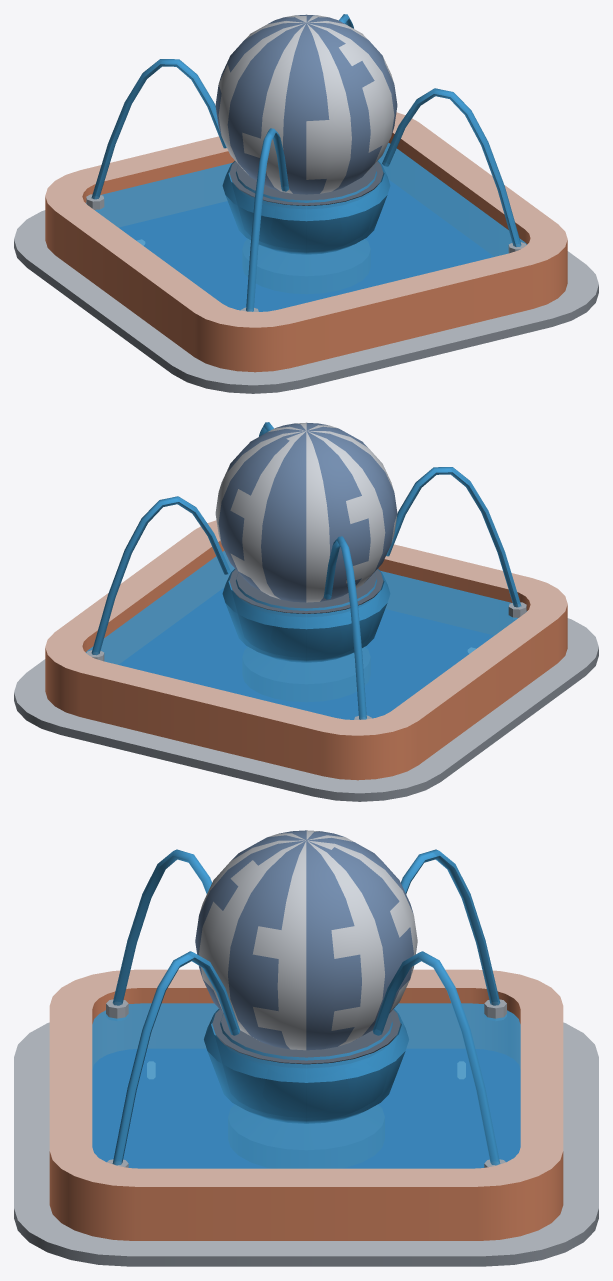
The model's file is chafariz_globo.glb.
3 views of the same model, one above another, from view 1: azimuth 30°, elevation 25°; view 2: azimuth 150°, elevation 25°; view 3: azimuth 270°, elevation 25° (orthographic). The views are drawn at different scales.
Visible parts, largest first — view 1: chafariz_globo, globo; view 2: chafariz_globo, globo; view 3: chafariz_globo, globo.
Boxes of the visible parts, bbox=[...] form: chafariz_globo: bbox=[14, 14, 598, 393]; globo: bbox=[215, 14, 397, 194]; chafariz_globo: bbox=[14, 422, 598, 801]; globo: bbox=[215, 422, 397, 602]; chafariz_globo: bbox=[14, 849, 598, 1266]; globo: bbox=[195, 830, 417, 1050].
Size of the model in its own units: 4.1 by 2.34 by 4.1.
3 materials, 1 textured.
